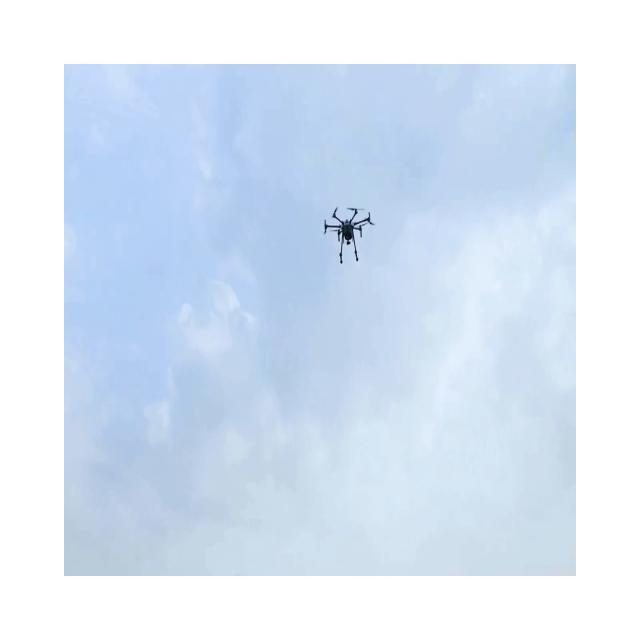drone: (323, 206, 375, 264)
